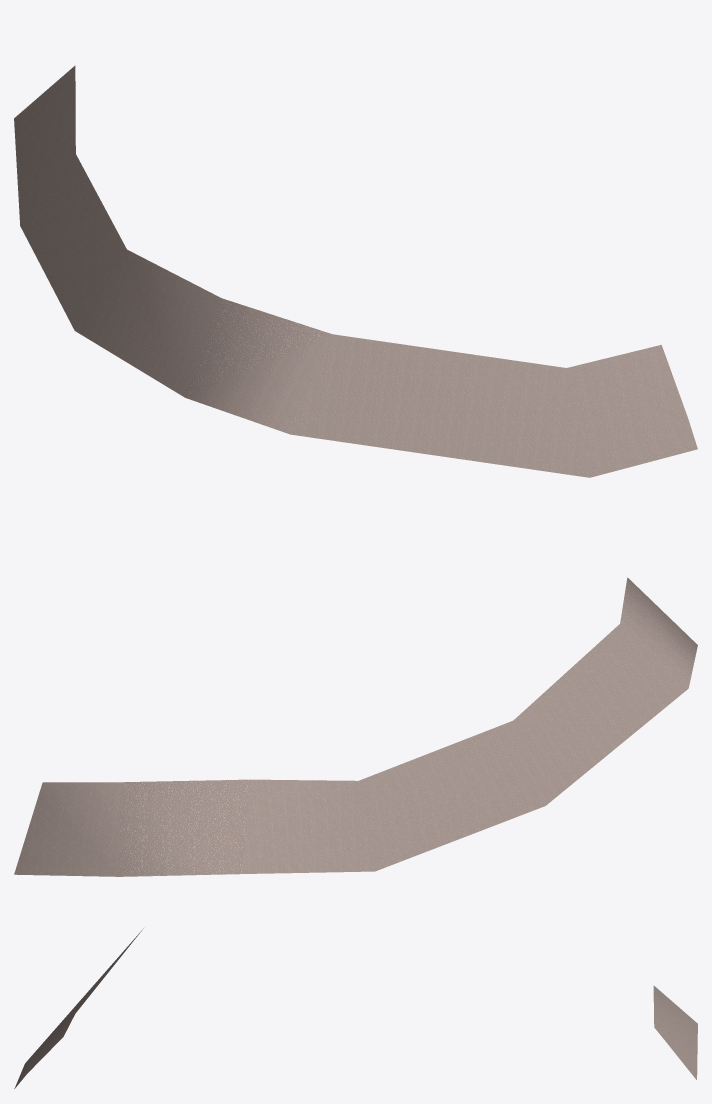
The model's file is kd_stage_1364a3_7_24_bounded.glb.
The picture shows the model from 3 angles, top to bottom: view 1: azimuth 30°, elevation 25°; view 2: azimuth 150°, elevation 25°; view 3: azimuth 270°, elevation 25°; orthographic projection. The views are drawn at different scales.
Parts seen in each view (by area): view 1: kd_stage_1364a3_7_24_bounded; view 2: kd_stage_1364a3_7_24_bounded; view 3: kd_stage_1364a3_7_24_bounded.
Boxes of the visible parts, box(x1,y1,x2,y2) form: kd_stage_1364a3_7_24_bounded: box(14, 65, 697, 477); kd_stage_1364a3_7_24_bounded: box(14, 577, 697, 876); kd_stage_1364a3_7_24_bounded: box(14, 928, 697, 1088).
Bounding box in the file's own units: 83.12 × 26.4 × 192.
1 material, 1 textured.
